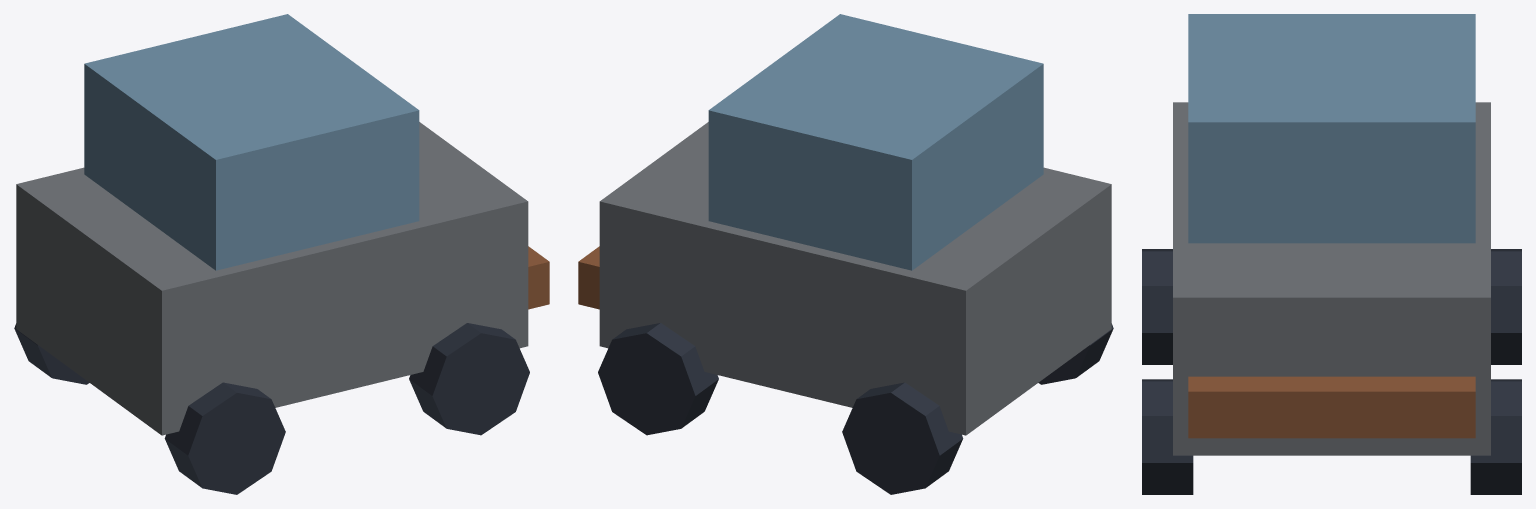
Rendered from car-compact.glb.
3 views of the same model, side by side, from view 1: azimuth 30°, elevation 25°; view 2: azimuth 150°, elevation 25°; view 3: azimuth 270°, elevation 25° (orthographic). The views are drawn at different scales.
Parts seen in each view (by area): view 1: body, cabin, wheel_1, wheel_3, wheel_0, bumper; view 2: body, cabin, wheel_0, wheel_2, wheel_1, bumper; view 3: cabin, body, bumper, wheel_2, wheel_3, wheel_0, wheel_1.
Boxes of the visible parts, x1,y1,x2,y2 form: body: (16, 122, 528, 435); cabin: (84, 14, 419, 270); wheel_1: (164, 382, 285, 494); wheel_3: (409, 323, 529, 435); wheel_0: (14, 323, 89, 384); bumper: (528, 246, 549, 309); body: (599, 122, 1111, 435); cabin: (708, 14, 1043, 270); wheel_0: (842, 382, 963, 494); wheel_2: (598, 323, 718, 435); wheel_1: (1038, 323, 1113, 384); bumper: (578, 246, 599, 309); cabin: (1188, 14, 1475, 243); body: (1173, 102, 1490, 455); bumper: (1188, 376, 1475, 438); wheel_2: (1470, 379, 1521, 494); wheel_3: (1142, 379, 1193, 494); wheel_0: (1491, 249, 1521, 364); wheel_1: (1142, 249, 1172, 364).
Bounding box in the file's own units: 0.97 × 0.75 × 0.74.
